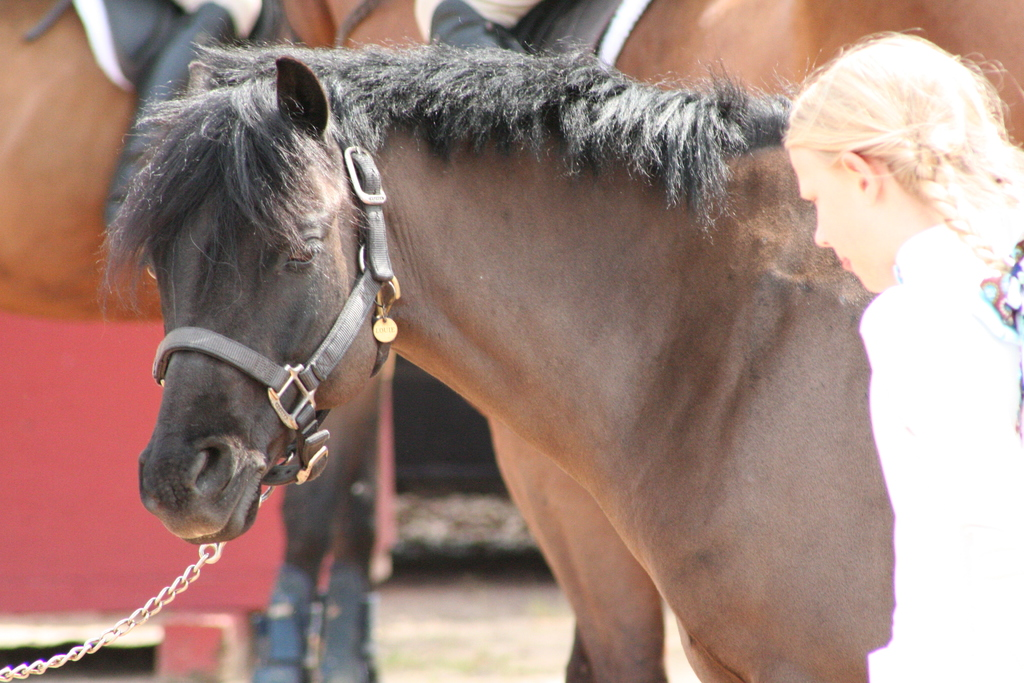face: (788, 99, 928, 292)
